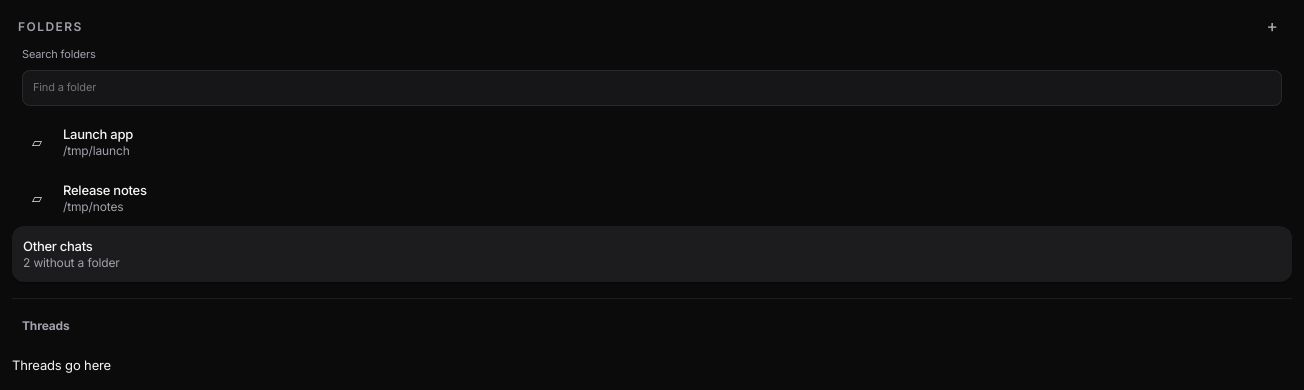
Scenario: filters the rail by title and restores every row when the query is cleared
Check: the button titled "Launch app" is shown, box left=12, top=114, right=1292, bottom=170
Check: the button titled "Release notes" is shown, box left=12, top=170, right=1292, bottom=226
Type "launch" into the field labelled "Search folders" at (652, 88), box left=22, top=70, right=1282, bottom=106
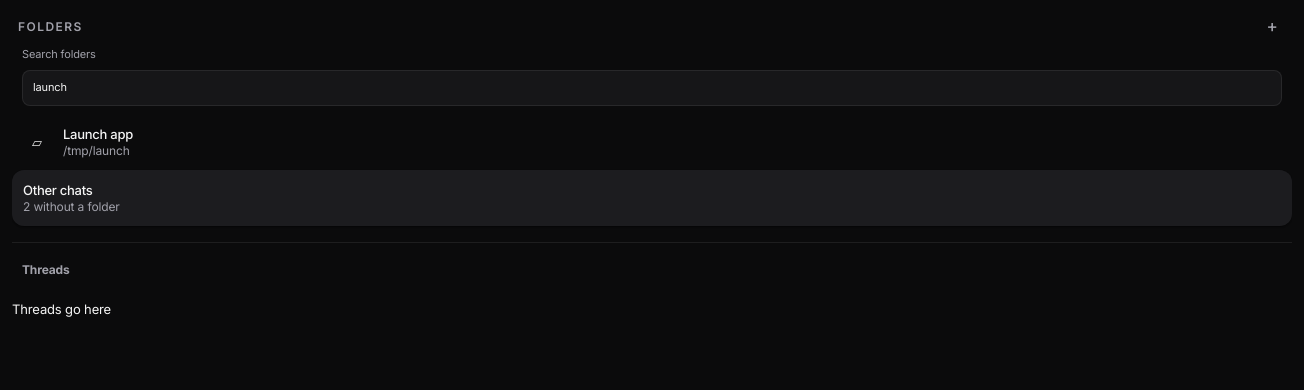
Check: the button titled "Launch app" is shown, box left=12, top=114, right=1292, bottom=170
Check: the button titled "Release notes" is gone
Clear the field labelled "Search folders" at (652, 88), box left=22, top=70, right=1282, bottom=106
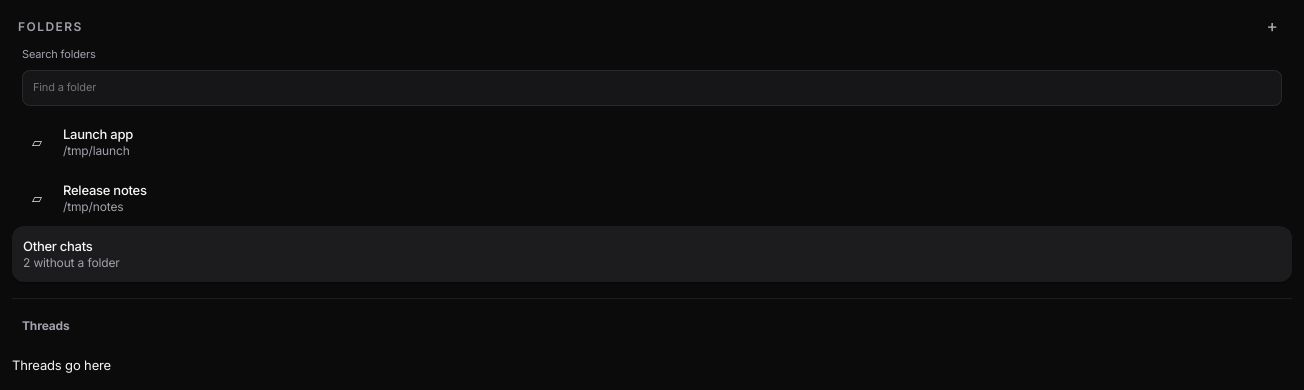
Check: the button titled "Launch app" is shown, box left=12, top=114, right=1292, bottom=170
Check: the button titled "Release notes" is shown, box left=12, top=170, right=1292, bottom=226
